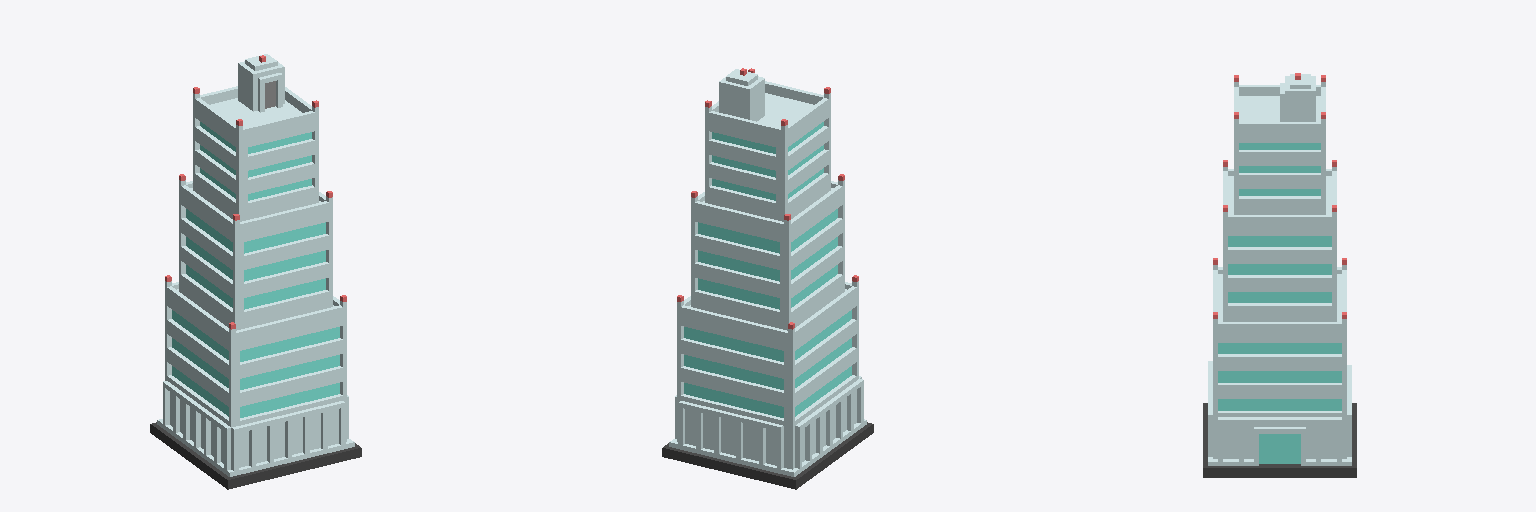
3 views of the same model, side by side, from view 1: azimuth 30°, elevation 25°; view 2: azimuth 150°, elevation 25°; view 3: azimuth 270°, elevation 25° (orthographic).
Bounding box in the file's own units: 30 × 81 × 30.
1 materials, 1 textured.